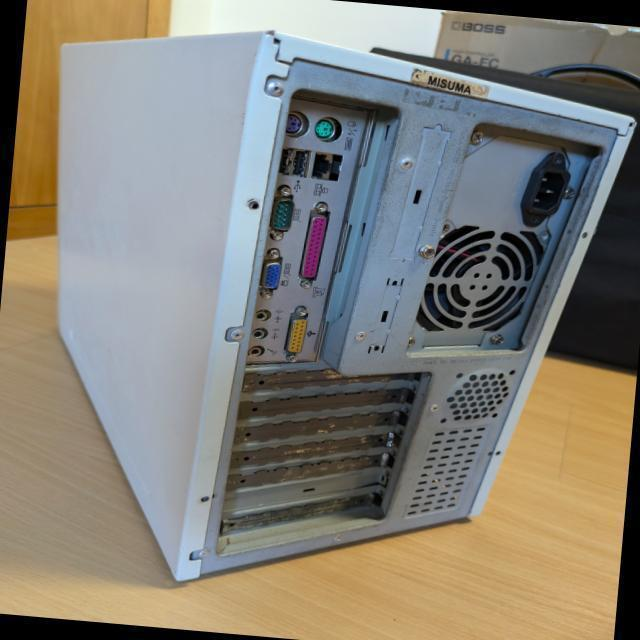PSU: (405, 120, 587, 367)
